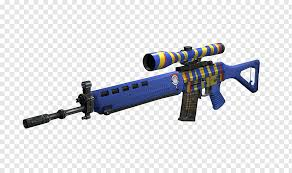gun: (20, 41, 261, 131)
